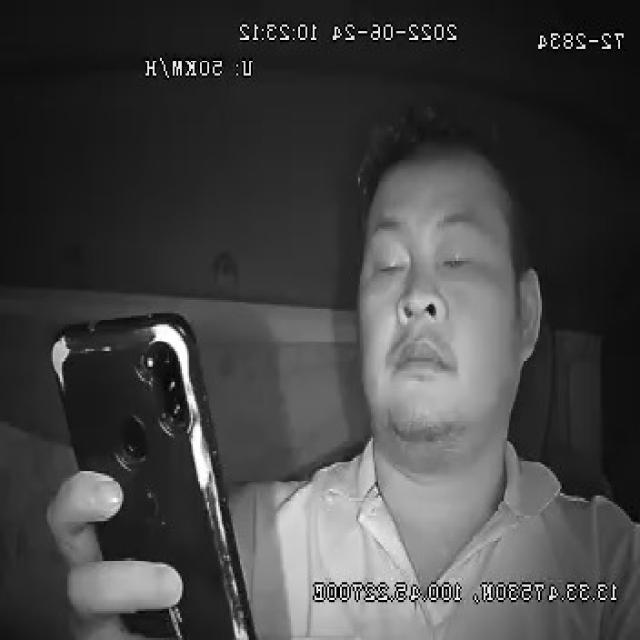phone: (48, 309, 258, 640)
